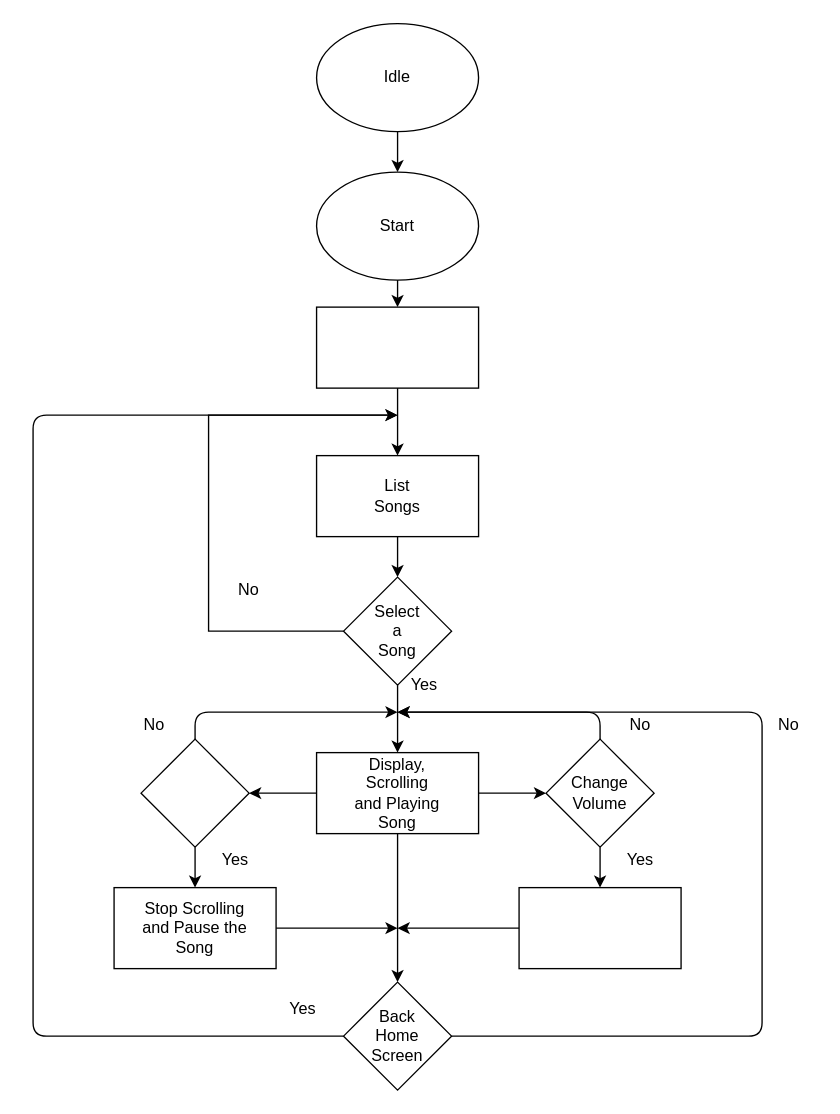
Some shapes in this 840 by 1114 pixel diagram are drawn without their labels. The shapes that lost their labels are listed below. From the top down, each one's box as (x1, y1, x2, y2) in pixels, then its label:
(315, 306, 479, 388): Intro Screen
(140, 738, 249, 847): Pause current song
(518, 886, 681, 969): Volume Screen
